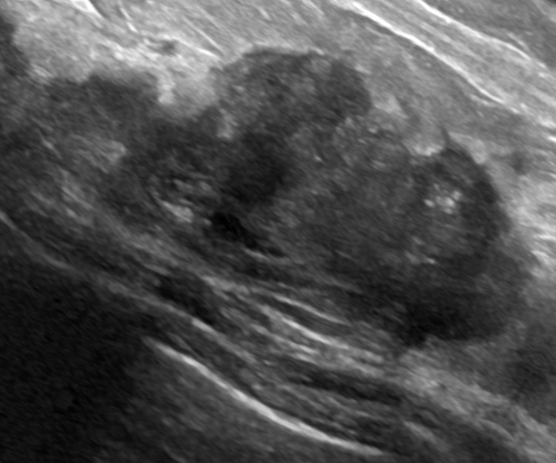Malignant: (309, 140, 498, 335)
